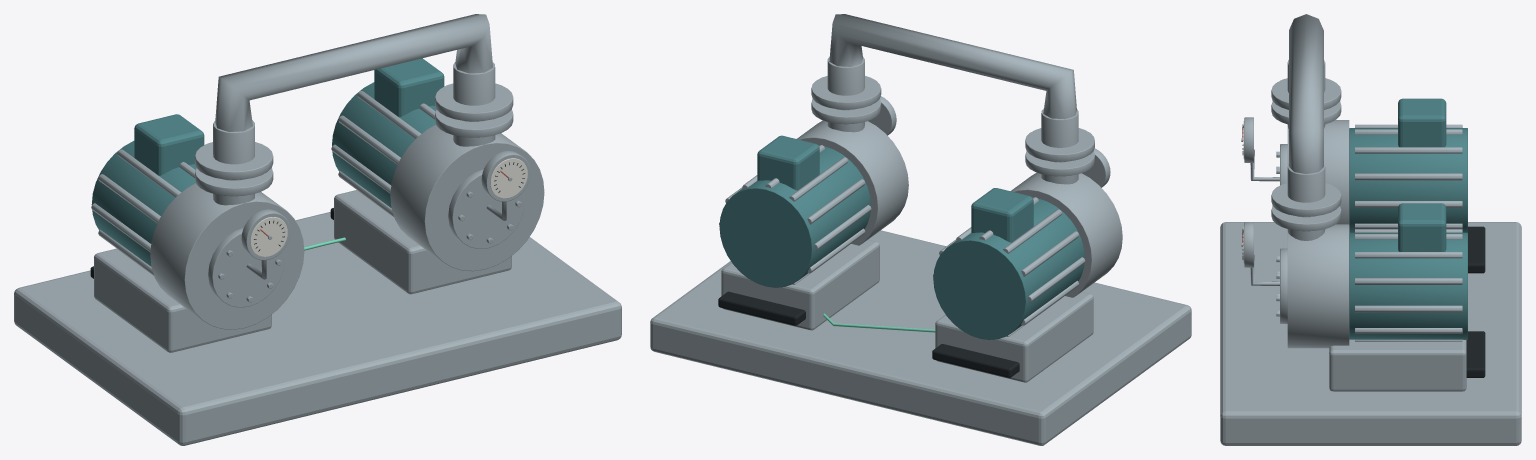
File: SF_TwinCoolingPump.fbx
3 renders of one model, left to right at view 1: azimuth 30°, elevation 25°; view 2: azimuth 150°, elevation 25°; view 3: azimuth 270°, elevation 25°, orthographic. The views are drawn at different scales.
Parts seen in each view (by area): view 1: SF_TwinCoolingPump; view 2: SF_TwinCoolingPump; view 3: SF_TwinCoolingPump.
Boxes of the visible parts, x1,y1,x2,y2 form: SF_TwinCoolingPump: (14, 14, 621, 445); SF_TwinCoolingPump: (650, 14, 1191, 445); SF_TwinCoolingPump: (1220, 14, 1521, 445).
Size of the model in its own units: 170 by 115 by 112.
